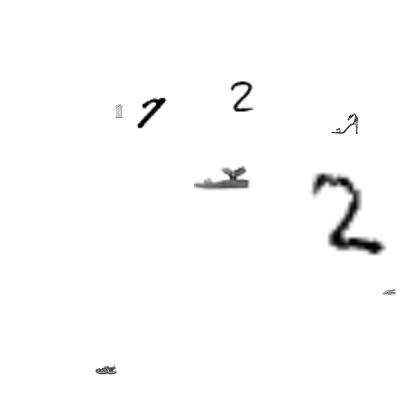2: (289, 162, 401, 274), (221, 74, 263, 116)
7: (129, 89, 171, 131)
Dress: (112, 104, 126, 118)
Sandal: (194, 150, 250, 206), (331, 109, 359, 137), (95, 358, 117, 380), (382, 285, 396, 299)
